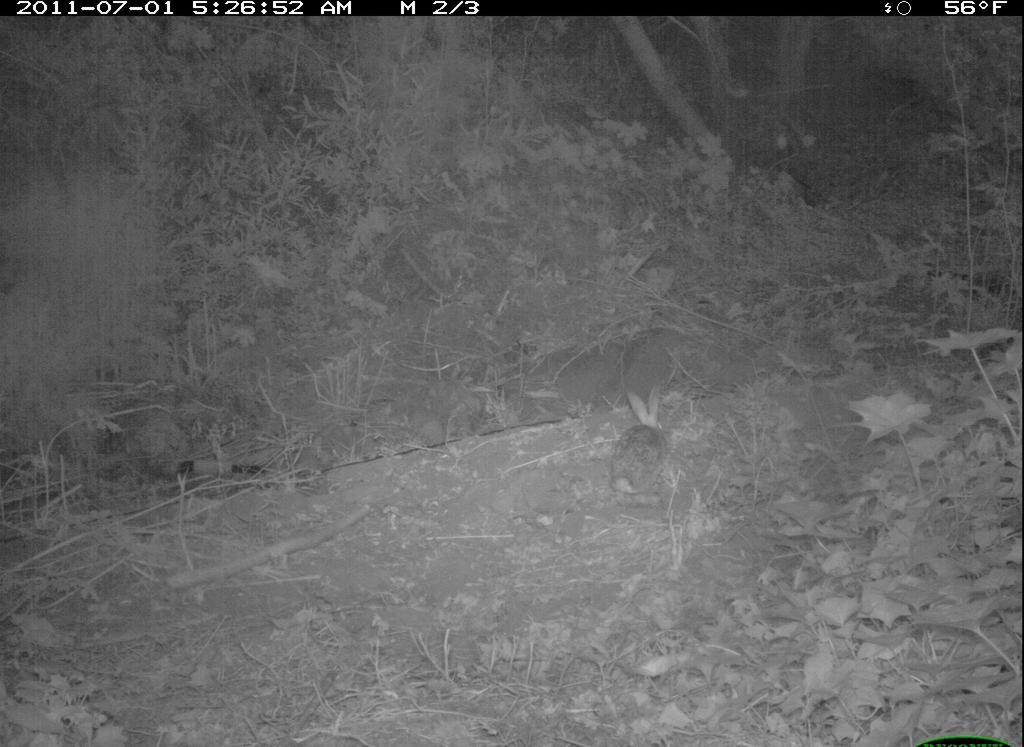rabbit: (601, 379, 671, 504)
